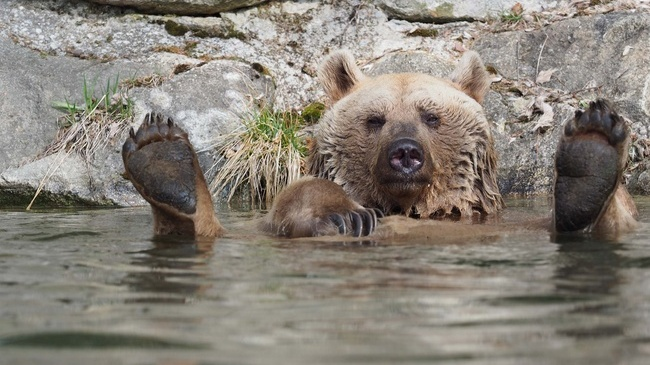bear: (313, 46, 492, 193)
